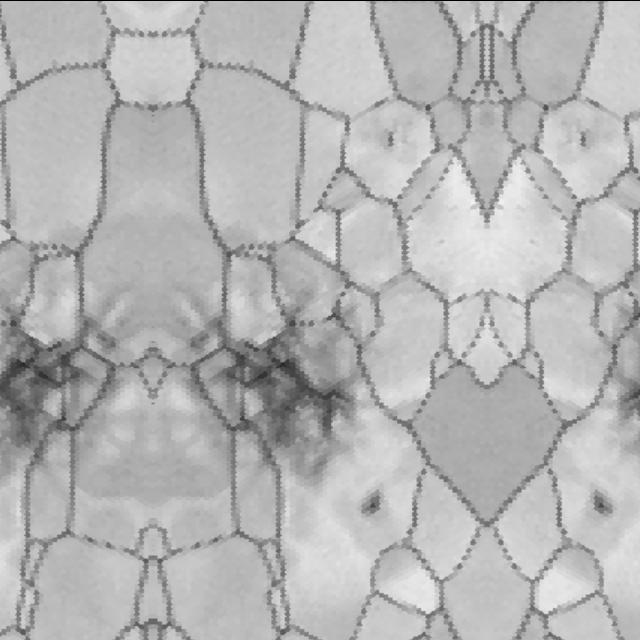good_void: (177, 293, 364, 486), (0, 293, 127, 483), (374, 112, 405, 149), (567, 112, 598, 149), (356, 486, 382, 522), (591, 486, 617, 522)
